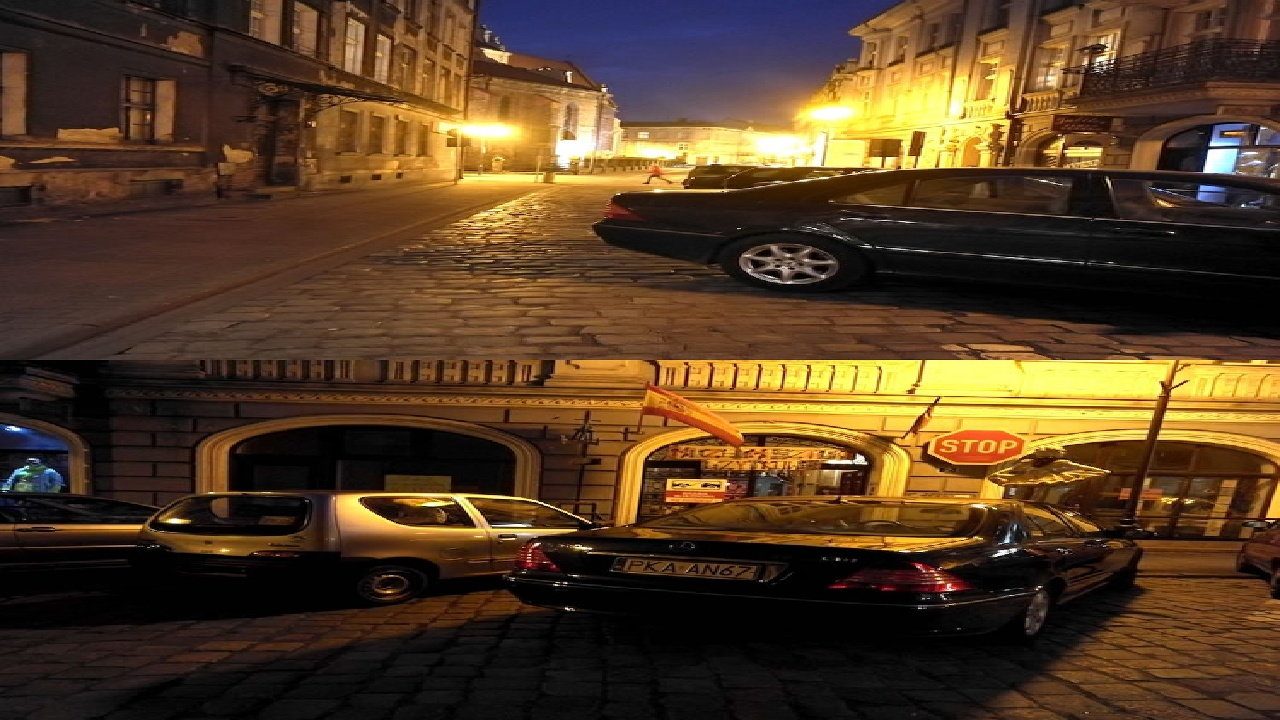B20: (928, 427, 1028, 467)
